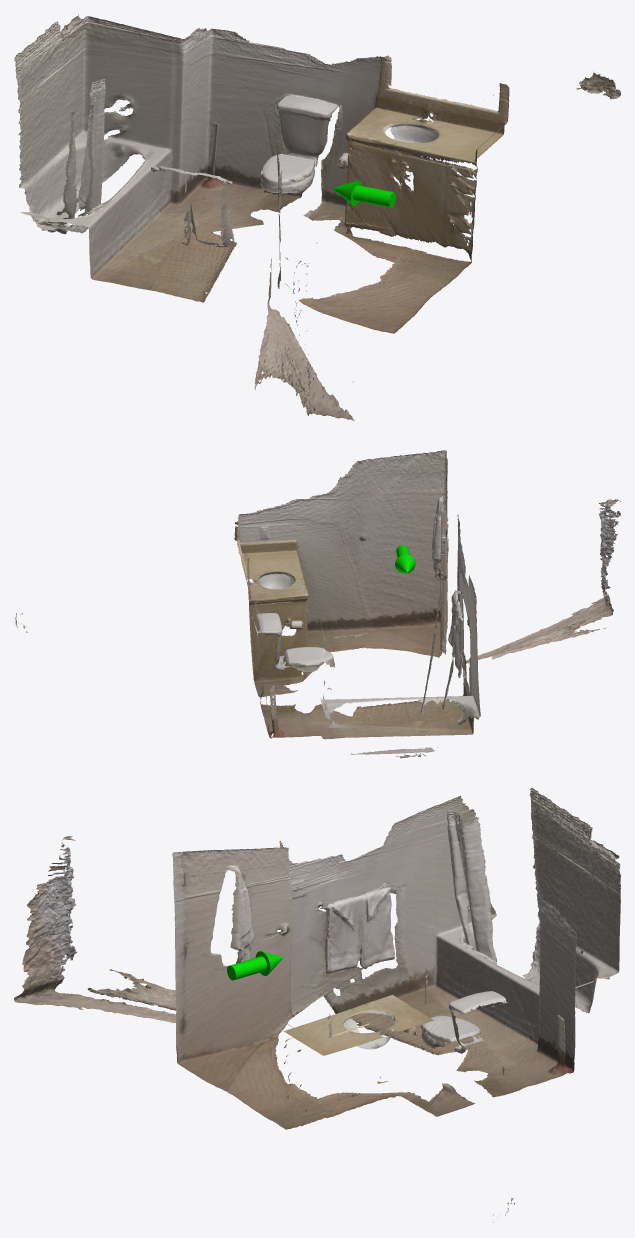
The model's file is situation_4.glb.
3 views of the same model, one above another, from view 1: azimuth 30°, elevation 25°; view 2: azimuth 150°, elevation 25°; view 3: azimuth 270°, elevation 25° (orthographic). The views are drawn at different scales.
Visible parts, largest first — view 1: world; view 2: world; view 3: world.
Part boxes in pixels (<box>): world: <box>14,14,620,421</box>; world: <box>15,450,620,758</box>; world: <box>14,788,620,1222</box>.
Bounding box in the file's own units: 5.19 × 1.87 × 4.73.
